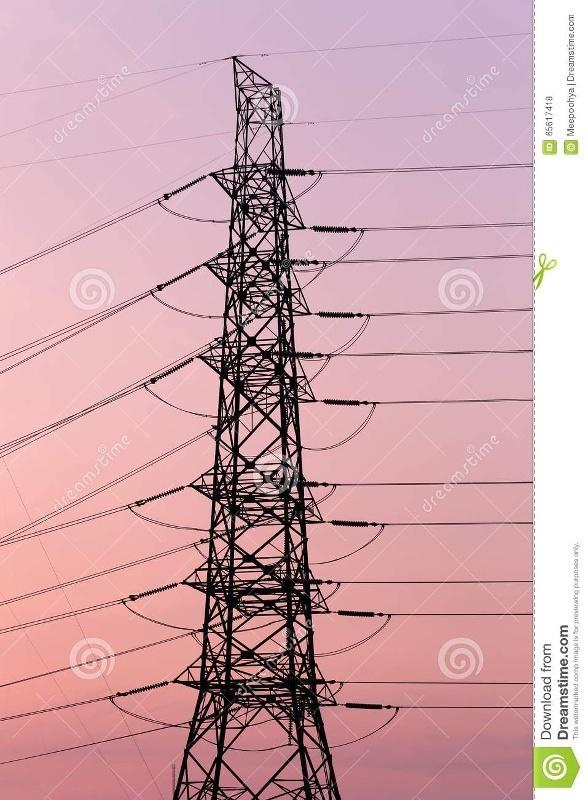power_tower: (150, 42, 365, 795)
